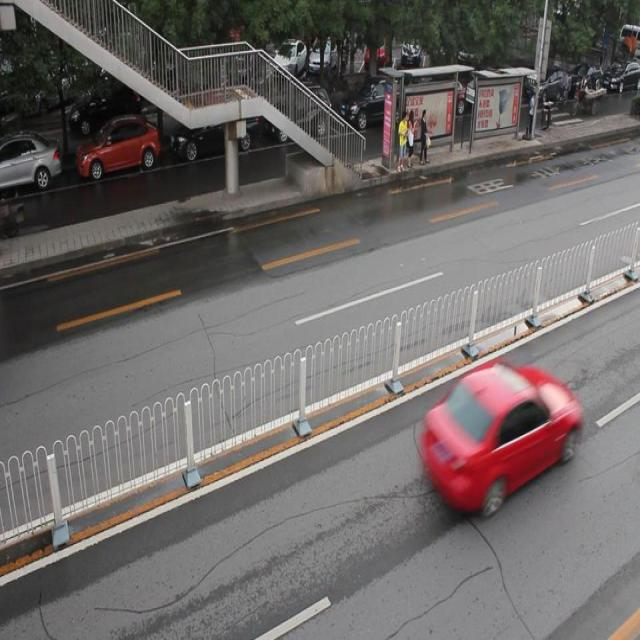car: (420, 361, 579, 511), (76, 116, 161, 183), (171, 96, 258, 160), (339, 72, 412, 132), (266, 83, 332, 143), (0, 136, 62, 194)
